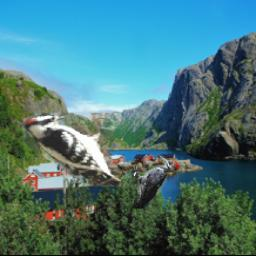Woodpecker: (25, 113, 122, 186), (132, 154, 178, 209)
